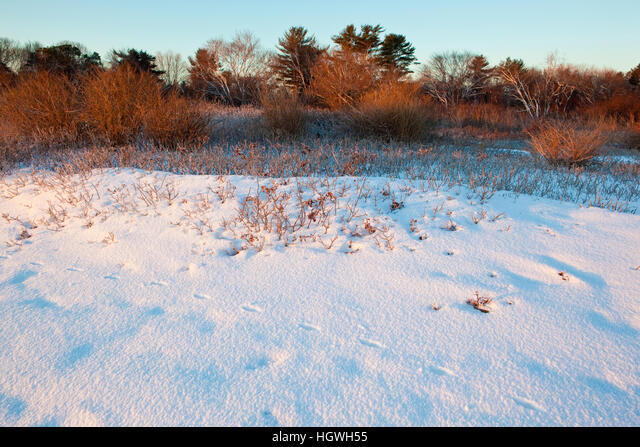fox: (354, 336, 384, 351), (239, 302, 263, 314), (298, 321, 318, 334)
